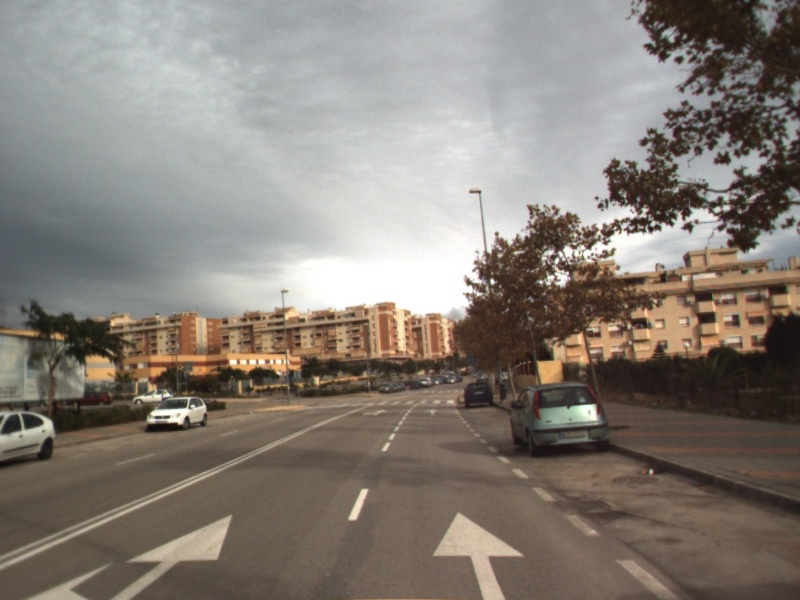STRAIGHT: (427, 507, 530, 600), (423, 407, 441, 417)
STRAIGHT_LEFT: (20, 509, 236, 600), (361, 408, 389, 417)
